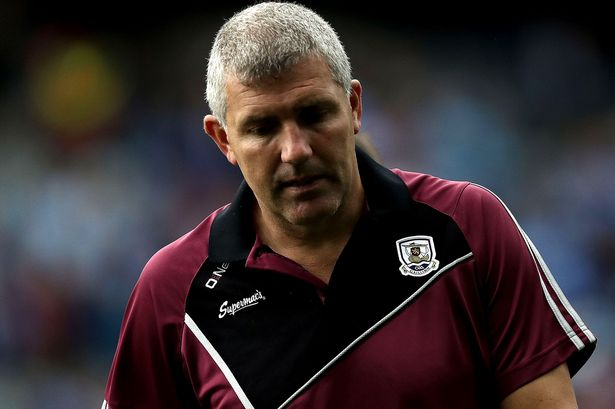player: (129, 8, 576, 404)
